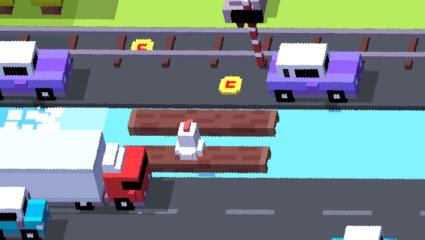hen: (174, 120, 205, 162)
obstacle: (0, 128, 151, 211), (265, 42, 365, 103), (0, 41, 75, 102), (0, 185, 49, 240), (221, 0, 269, 22), (332, 225, 398, 240), (30, 0, 65, 17), (0, 0, 16, 15)
timber: (128, 109, 281, 136), (121, 146, 271, 173)
